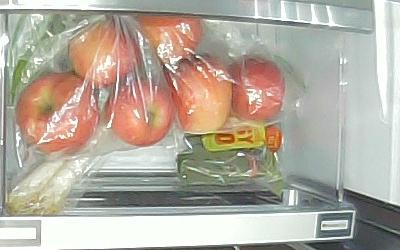apple_vinyl: (16, 73, 99, 153), (166, 54, 230, 133), (67, 20, 140, 87), (105, 79, 175, 147), (228, 56, 286, 121), (134, 15, 203, 67)
